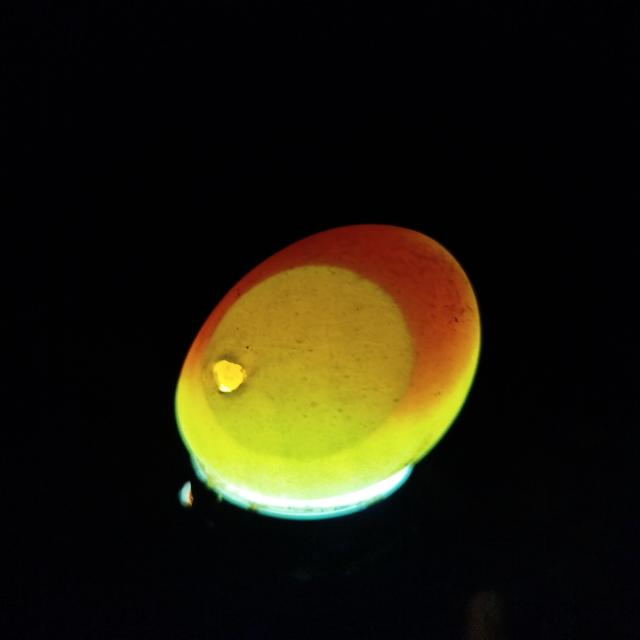Camara de Ar: (198, 265, 414, 459)
Gema Quebrada: (189, 224, 477, 420)
